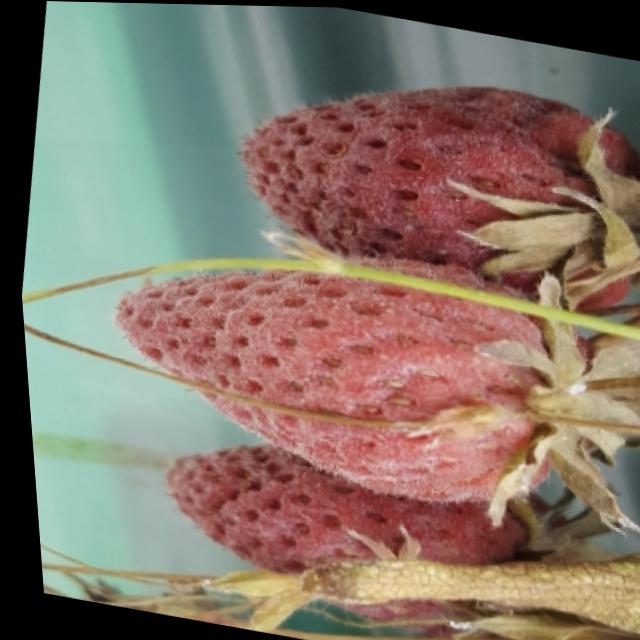Powdery Mildew Fruit: (107, 256, 603, 501), (234, 84, 640, 319), (160, 439, 524, 627)
